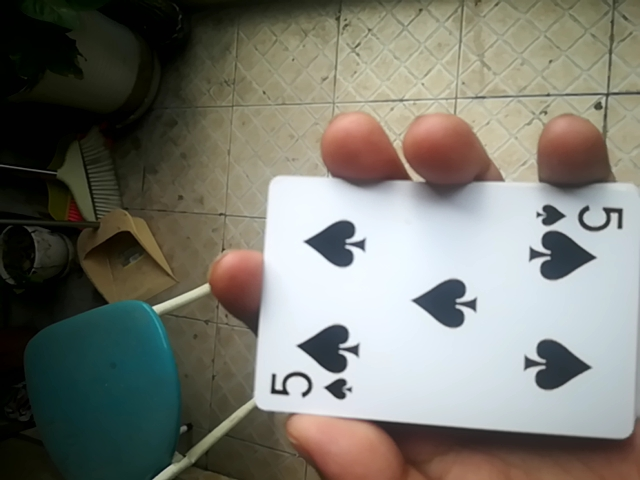ht 5: (260, 169, 640, 439)
